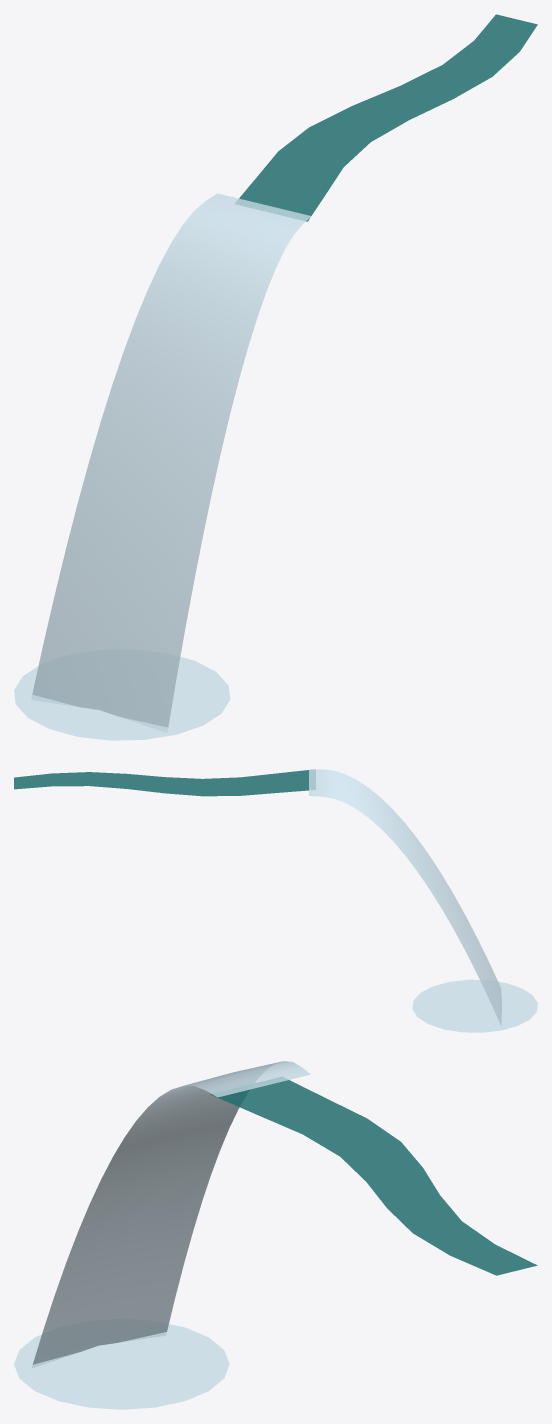
Rendered from SM_Waterfall_Water_NoCol.fbx.
3 renders of one model, top to bottom at view 1: azimuth 30°, elevation 25°; view 2: azimuth 150°, elevation 25°; view 3: azimuth 270°, elevation 25°, orthographic. The views are drawn at different scales.
Parts seen in each view (by area): view 1: SM_Waterfall_Water_NoCol; view 2: SM_Waterfall_Water_NoCol; view 3: SM_Waterfall_Water_NoCol.
Boxes of the visible parts, x1,y1,x2,y2 form: SM_Waterfall_Water_NoCol: [14, 14, 537, 740]; SM_Waterfall_Water_NoCol: [14, 769, 537, 1032]; SM_Waterfall_Water_NoCol: [14, 1061, 537, 1409].
Bounding box in the file's own units: 66.78 × 35.6 × 43.74.
